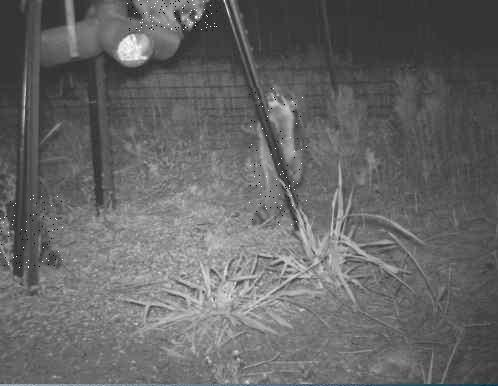Raccoon: (248, 88, 306, 225), (0, 194, 64, 269), (127, 0, 217, 31)
